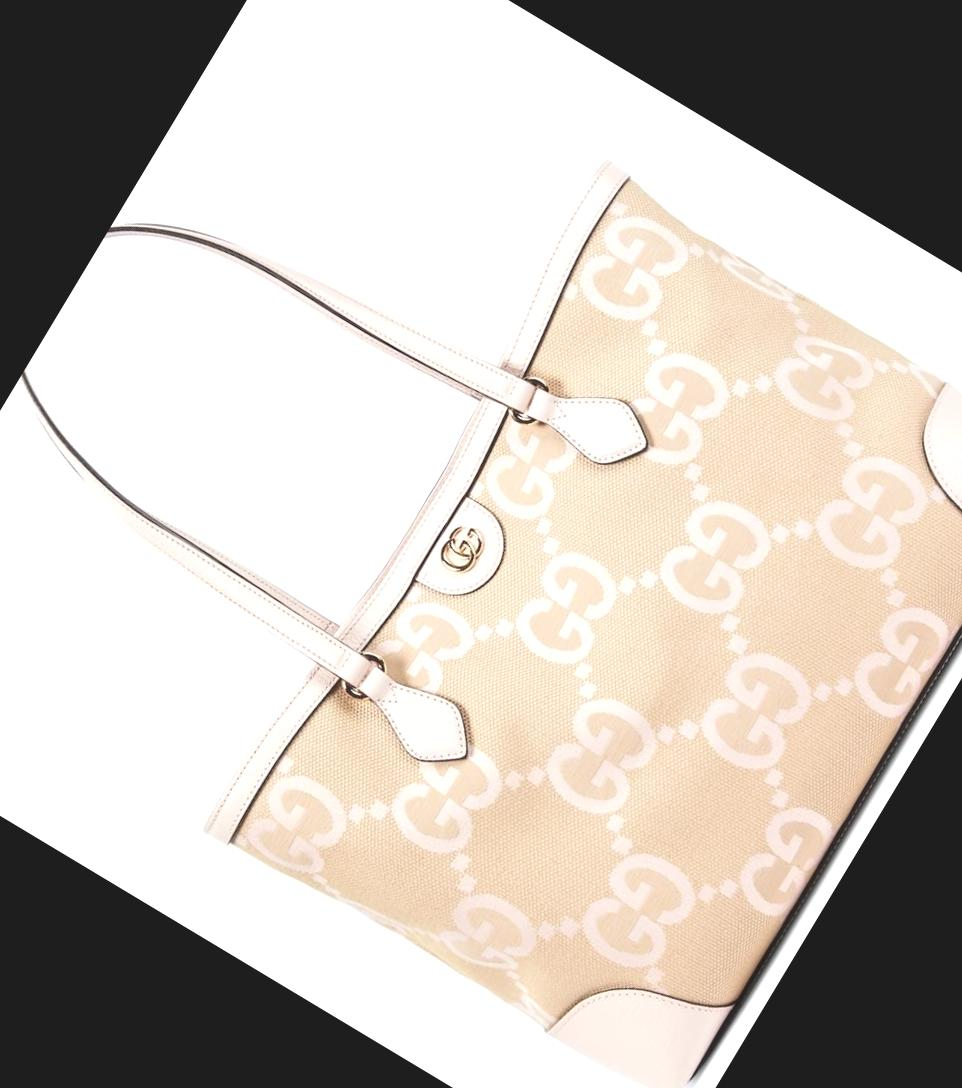GUCCI: (433, 519, 491, 580)
